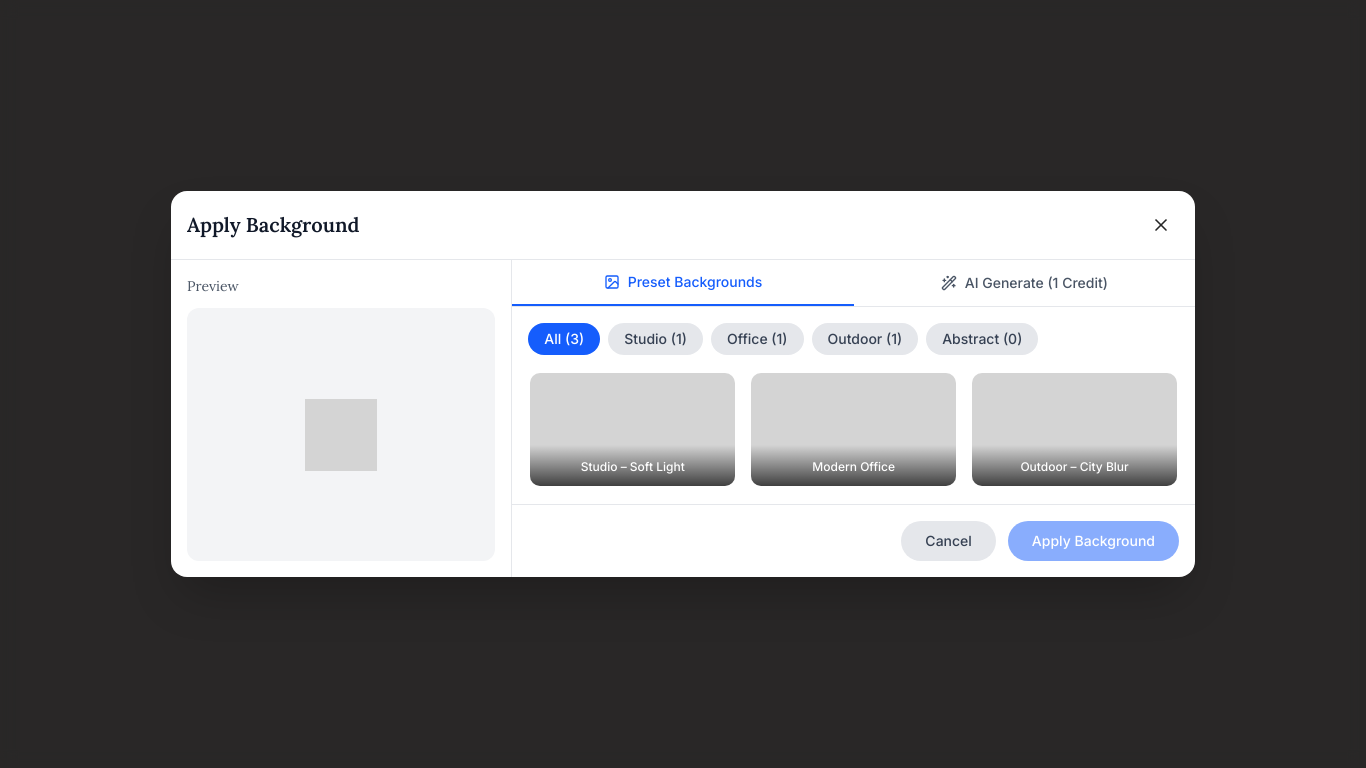
Test: BackgroundModal › filters backgrounds by category
The width and height of the screenshot is (1366, 768).
# Click on Studio category
Click the button "Studio (1)" at (656, 339), box [608,323,703,355]
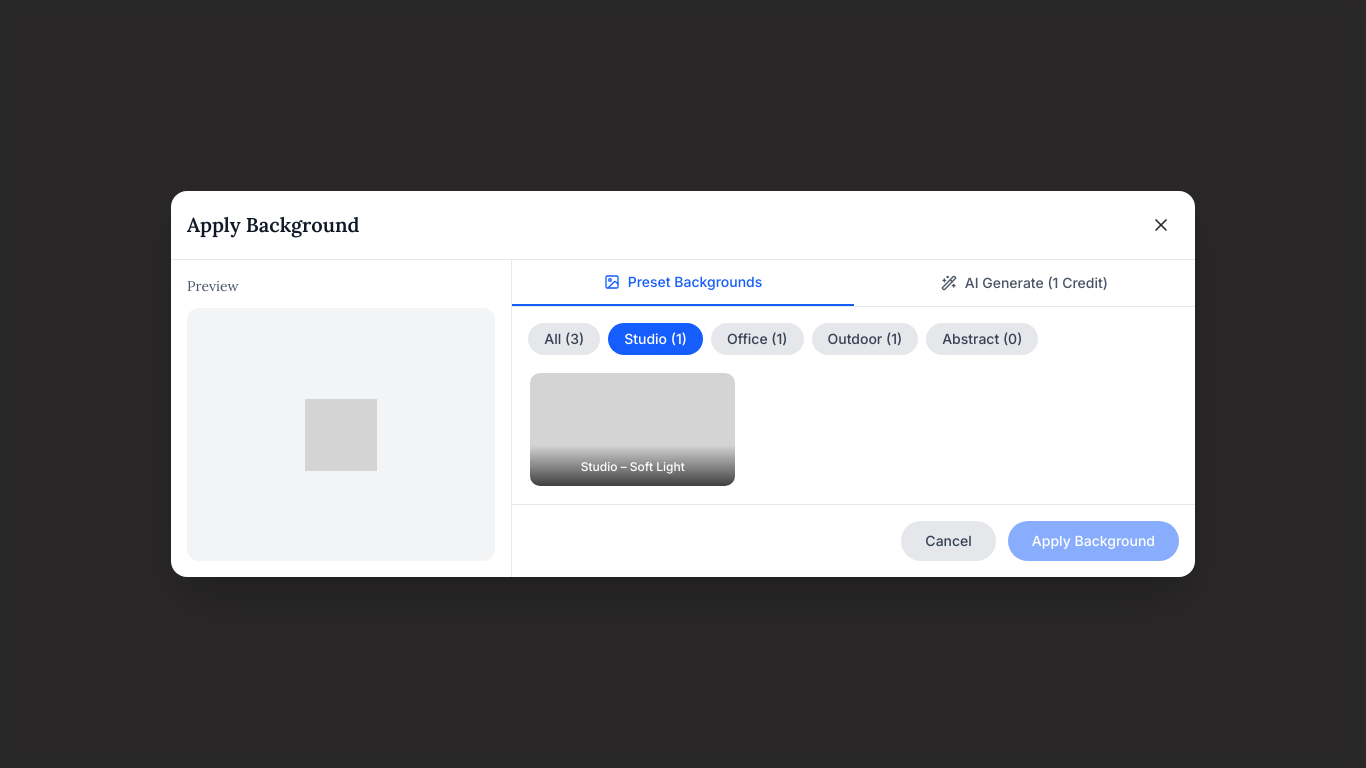
Check: the text "Studio – Soft Light" is shown, box [581,459,685,474]
Check: the button "Modern Office" is gone
Check: the button "Outdoor – City Blur" is gone
